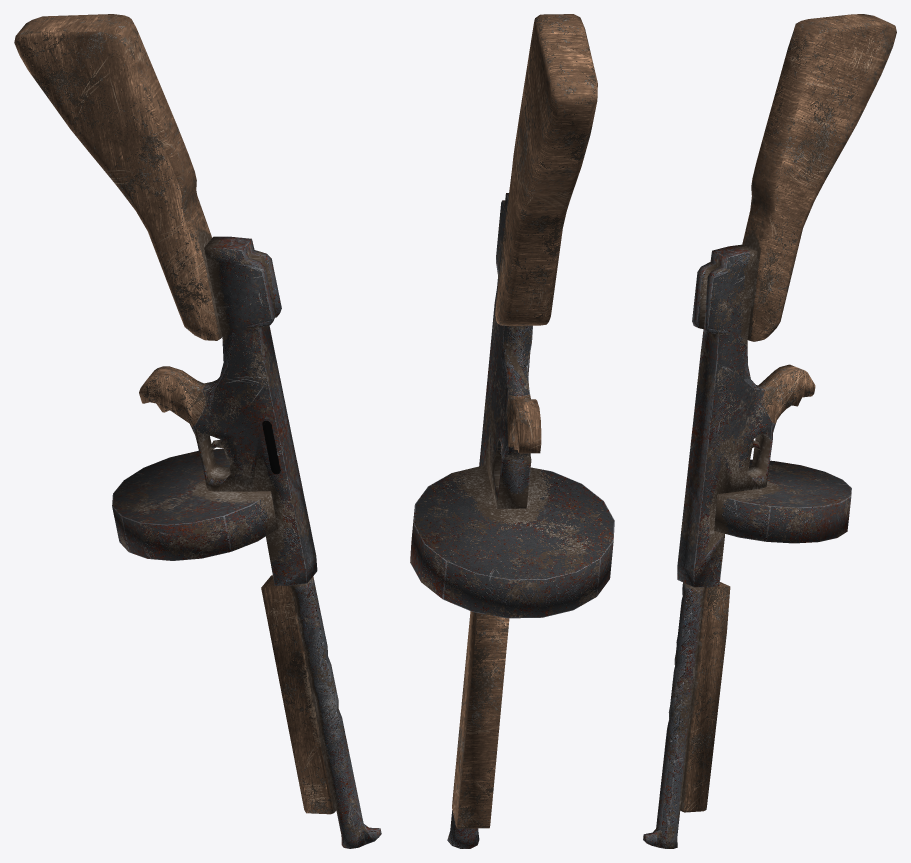
File: Anim_disparar_ametralladora_objetos.0037.obj
The picture shows the model from 3 angles, left to right: view 1: azimuth 30°, elevation 25°; view 2: azimuth 150°, elevation 25°; view 3: azimuth 270°, elevation 25°; orthographic projection. The views are drawn at different scales.
Visible parts, largest first — view 1: Ametralladora1; view 2: Ametralladora1; view 3: Ametralladora1.
Boxes of the visible parts, x1,y1,x2,y2 form: Ametralladora1: [14, 14, 381, 848]; Ametralladora1: [410, 14, 614, 848]; Ametralladora1: [643, 14, 896, 848].
Size of the model in its own units: 1.84 by 5.84 by 1.79.
